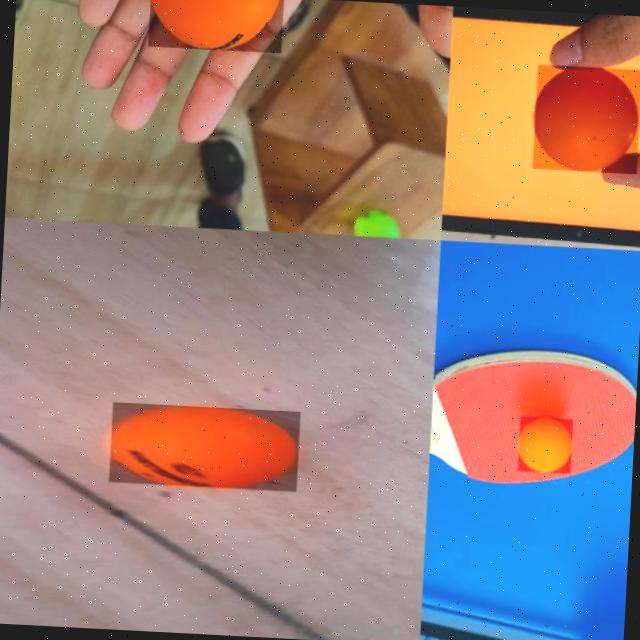ping-pong-ball: (107, 402, 301, 492), (531, 63, 640, 174), (146, 0, 284, 53), (516, 415, 574, 474)
